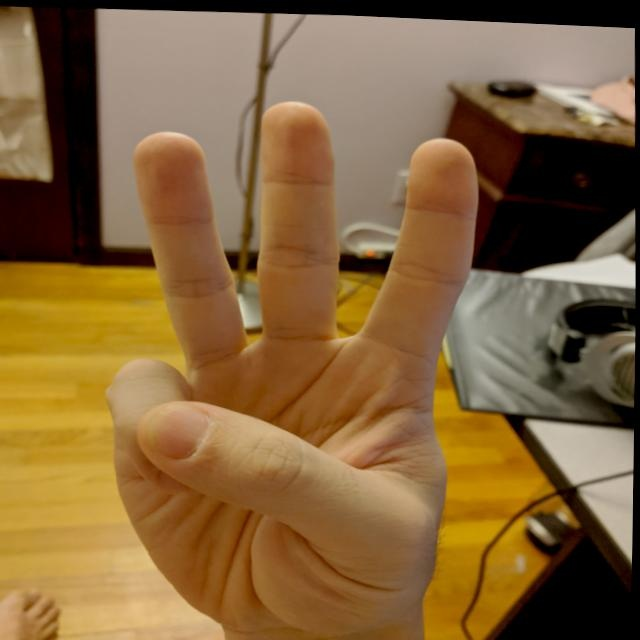W: (93, 84, 498, 639)
